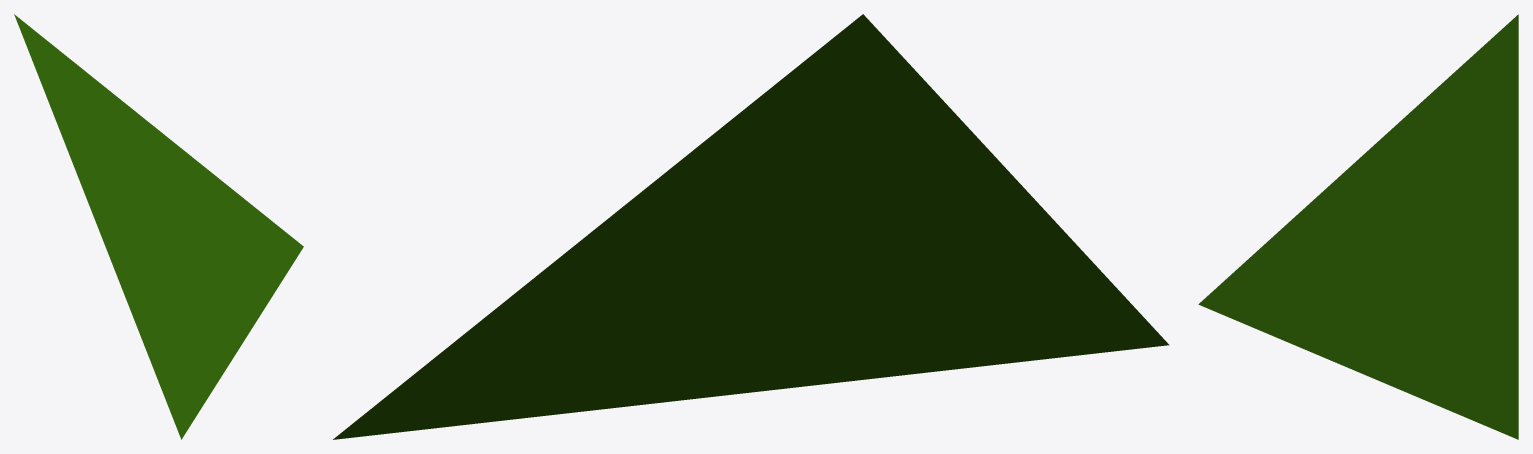
The model's file is hill-corner-1.glb.
3 views of the same model, side by side, from view 1: azimuth 30°, elevation 25°; view 2: azimuth 150°, elevation 25°; view 3: azimuth 270°, elevation 25° (orthographic). The views are drawn at different scales.
Parts seen in each view (by area): view 1: mesh0; view 2: mesh0; view 3: mesh0.
Boxes of the visible parts, left/top/right/bottom form: mesh0: left=14, top=14, right=303, bottom=439; mesh0: left=333, top=14, right=1169, bottom=439; mesh0: left=1198, top=14, right=1518, bottom=439.
Size of the model in its own units: 0.6 by 0.6 by 0.6.
